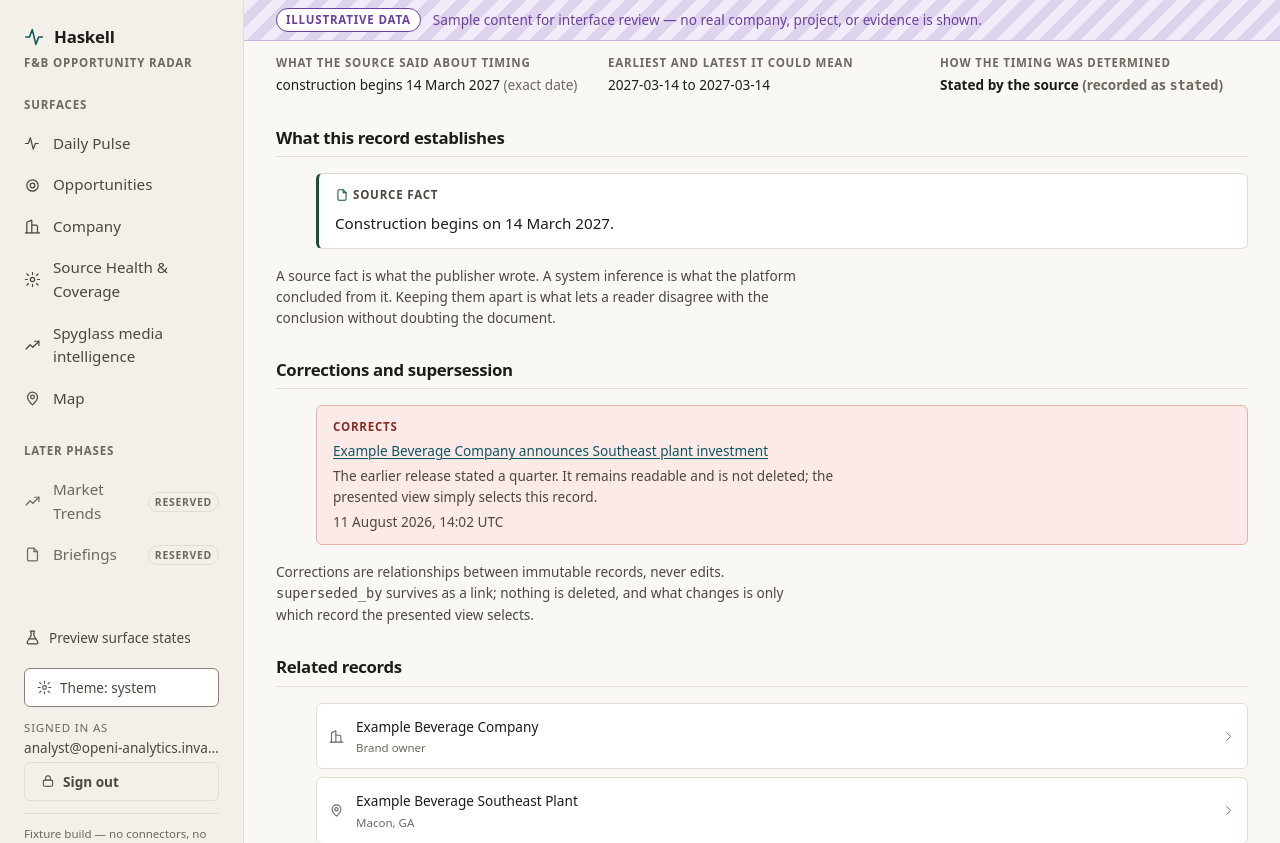
Test case: corrections and supersession › links back from the correcting record to what it corrected
(page scrolled)
Expected: the text "Corrects" is shown, x1=333 y1=419 x2=398 y2=434
Click the link "Example Beverage Company announces Southeast plant investment".
click(551, 450)  # box x1=333 y1=441 x2=768 y2=460
(page scrolled)
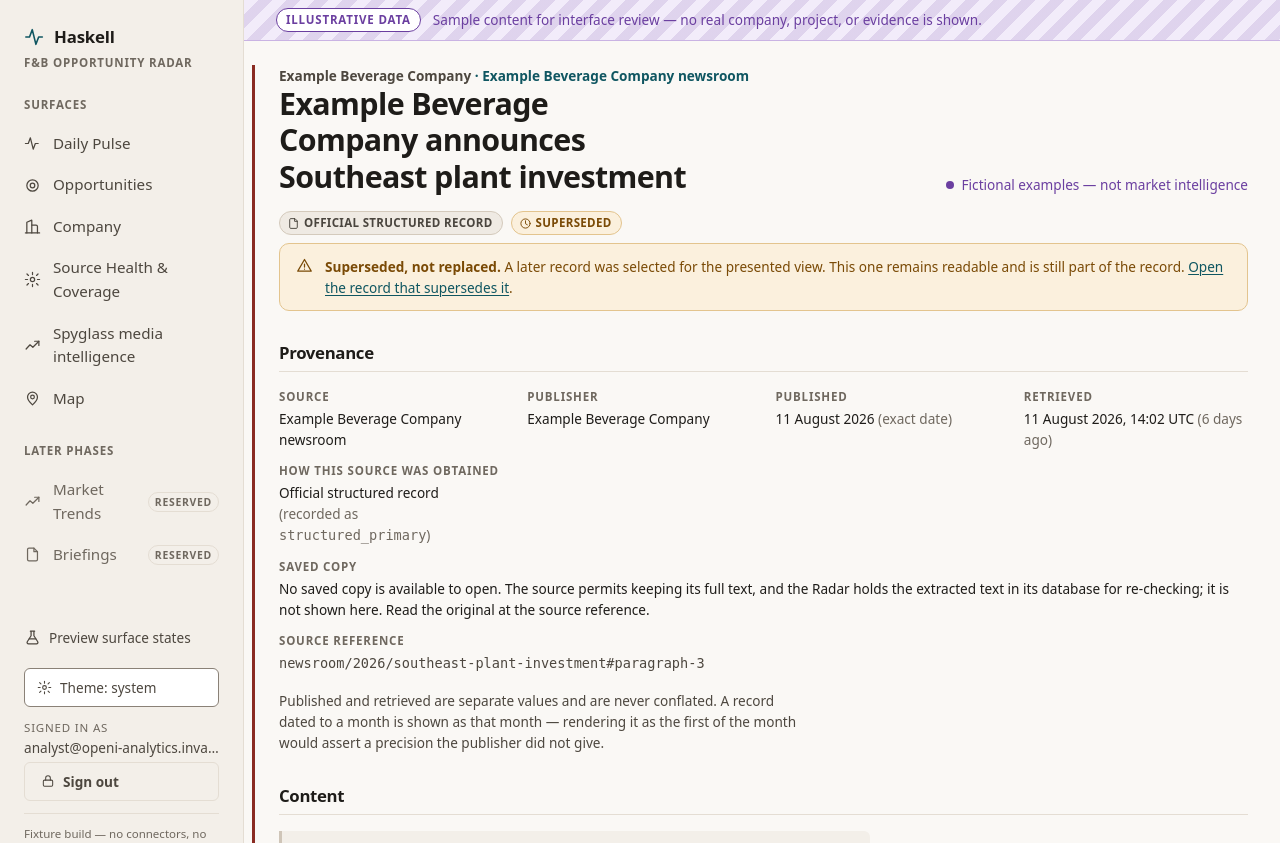
Expected: the heading "Example Beverage Company announces Southeast plant investment" is shown, x1=279 y1=83 x2=686 y2=197
